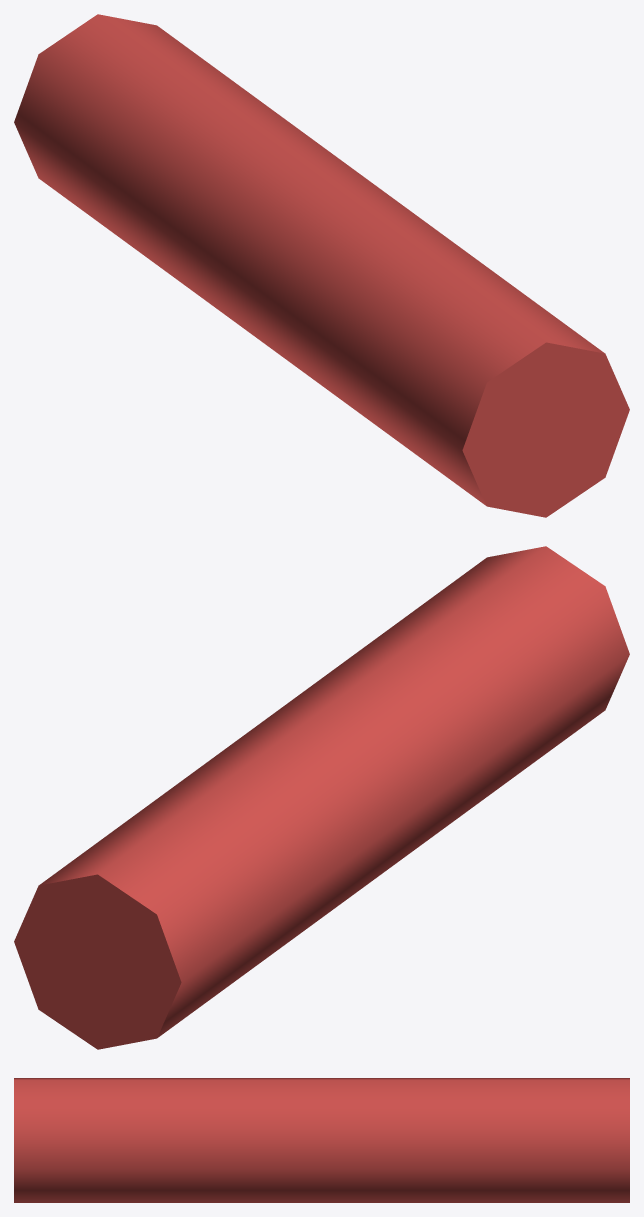
File: support-small-horizontal.glb
The picture shows the model from 3 angles, top to bottom: view 1: azimuth 30°, elevation 25°; view 2: azimuth 150°, elevation 25°; view 3: azimuth 270°, elevation 25°; orthographic projection. The views are drawn at different scales.
Visible parts, largest first — view 1: support-small-horizontal; view 2: support-small-horizontal; view 3: support-small-horizontal.
Boxes of the visible parts, box(x1,y1,x2,y2) form: support-small-horizontal: box(14, 14, 629, 517); support-small-horizontal: box(14, 546, 629, 1049); support-small-horizontal: box(14, 1078, 629, 1202).
Bounding box in the file's own units: 0.2157 × 0.2157 × 1.
1 material, 1 textured.
